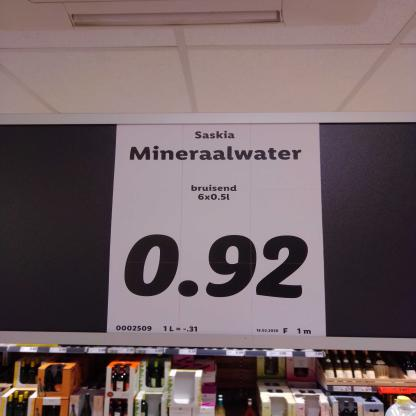prtg: (107, 125, 328, 338)
